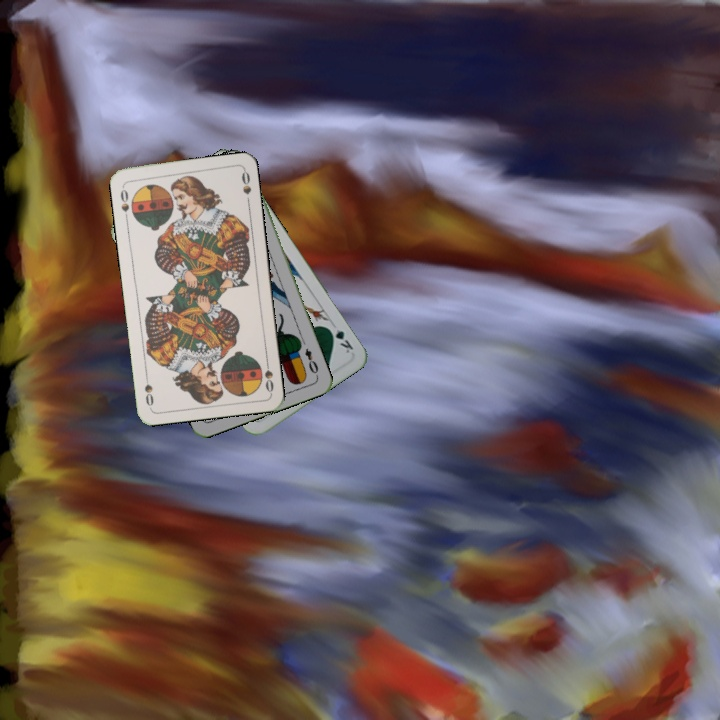EO: (301, 344, 321, 379)
GK: (324, 323, 356, 356)
SO: (260, 354, 276, 395), (116, 181, 132, 214)
